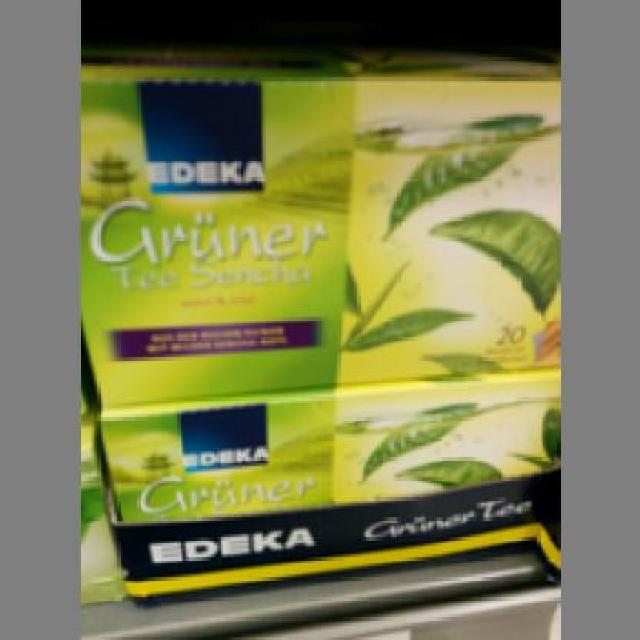Tea: (77, 48, 554, 406), (91, 380, 554, 606)
